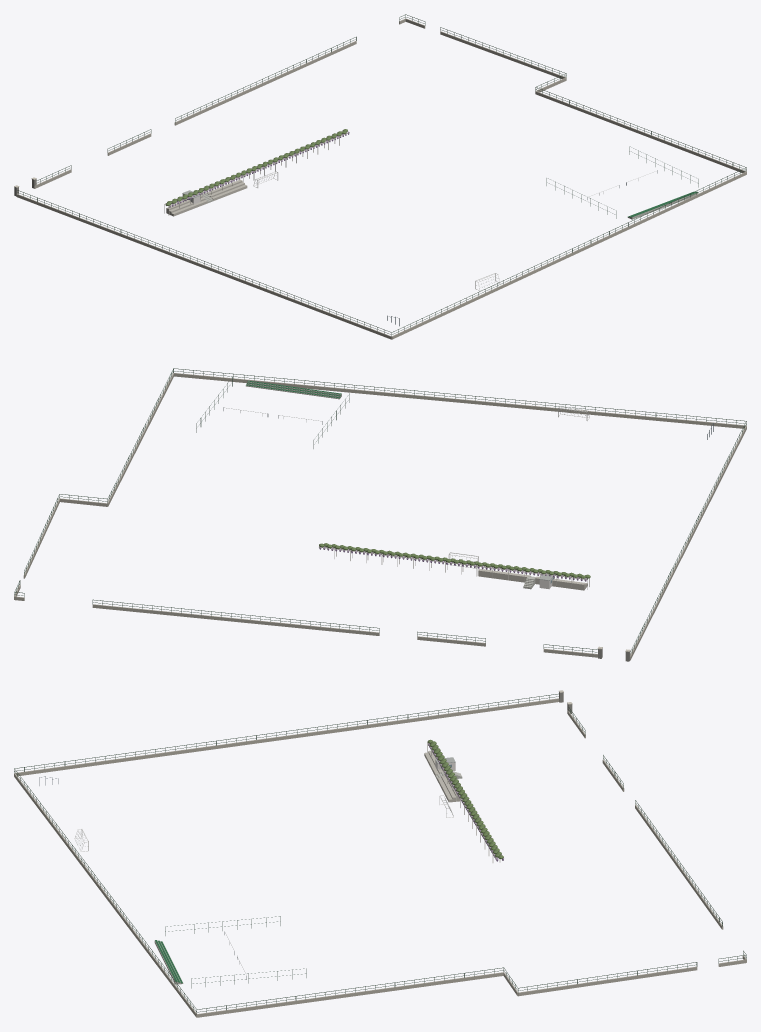
3 renders of one model, top to bottom at view 1: azimuth 30°, elevation 25°; view 2: azimuth 150°, elevation 25°; view 3: azimuth 270°, elevation 25°, orthographic. The views are drawn at different scales.
Parts seen in each view (by area): view 1: site-wall-concrete, site-fence, site-pergola-leaves, site-stand-concrete; view 2: site-wall-concrete, site-fence, site-pergola-leaves, site-stand-concrete, site-pergola-frame; view 3: site-wall-concrete, site-fence, site-pergola-leaves, site-stand-concrete.
Part boxes in pixels (x1,y1,x2,y2): site-wall-concrete: (16, 18, 746, 339); site-fence: (17, 14, 746, 336); site-pergola-leaves: (165, 129, 347, 205); site-stand-concrete: (166, 179, 247, 216); site-wall-concrete: (14, 373, 746, 660); site-fence: (14, 368, 746, 654); site-pergola-leaves: (319, 543, 590, 578); site-stand-concrete: (478, 569, 587, 590); site-pergola-frame: (319, 547, 589, 589); site-wall-concrete: (14, 698, 746, 1017); site-fence: (14, 693, 746, 1014); site-pergola-leaves: (427, 739, 503, 858); site-stand-concrete: (424, 750, 459, 802).
Size of the model in its own units: 178 by 3.65 by 174.
